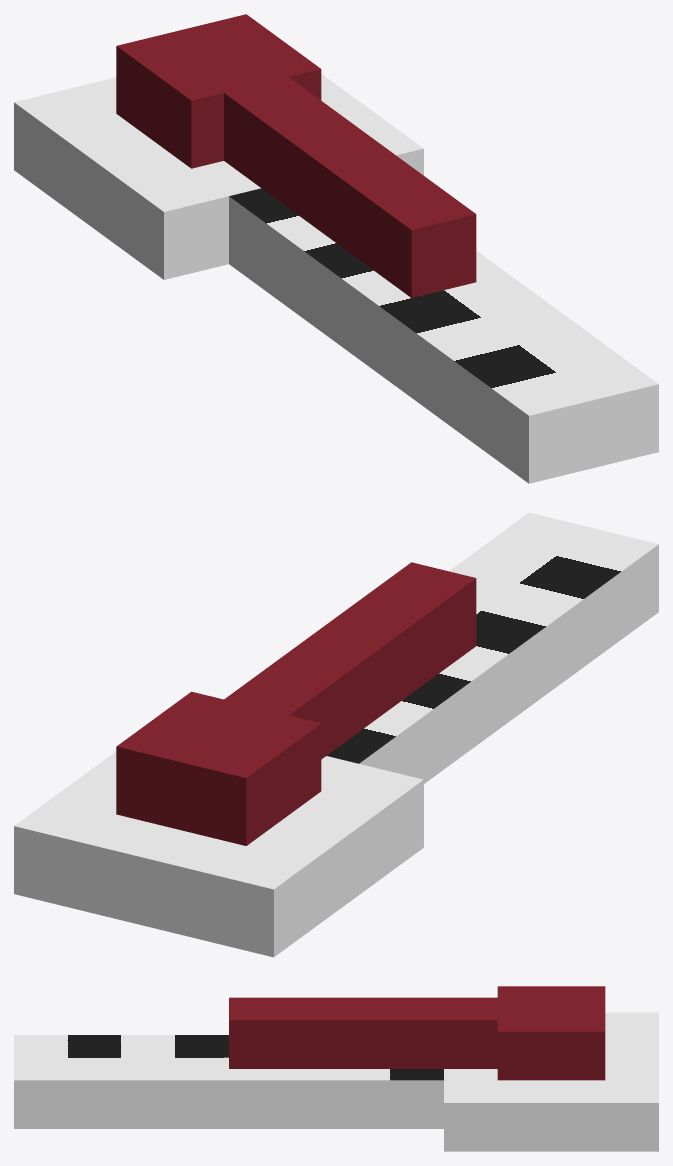
Rendered from Thermometer.fbx.
The picture shows the model from 3 angles, top to bottom: view 1: azimuth 30°, elevation 25°; view 2: azimuth 150°, elevation 25°; view 3: azimuth 270°, elevation 25°; orthographic projection. The views are drawn at different scales.
Parts seen in each view (by area): view 1: cube_1, cube_3, cube, cube_2; view 2: cube, cube_1, cube_2, cube_3; view 3: cube_1, cube, cube_3, cube_2.
Part boxes in pixels (box(x1,y1,x2,y2)): cube_1: box(229, 188, 658, 483); cube_3: box(224, 77, 476, 297); cube: box(14, 74, 423, 279); cube_2: box(116, 14, 321, 168); cube: box(14, 751, 423, 957); cube_1: box(327, 512, 658, 783); cube_2: box(116, 691, 321, 845); cube_3: box(224, 562, 476, 759); cube_1: box(14, 1035, 443, 1128); cube: box(444, 1012, 658, 1151); cube_3: box(229, 997, 497, 1068); cube_2: box(497, 986, 605, 1080).
Size of the model in its own units: 25 by 12.5 by 75.
Materials: 1 (1 with a texture image).
